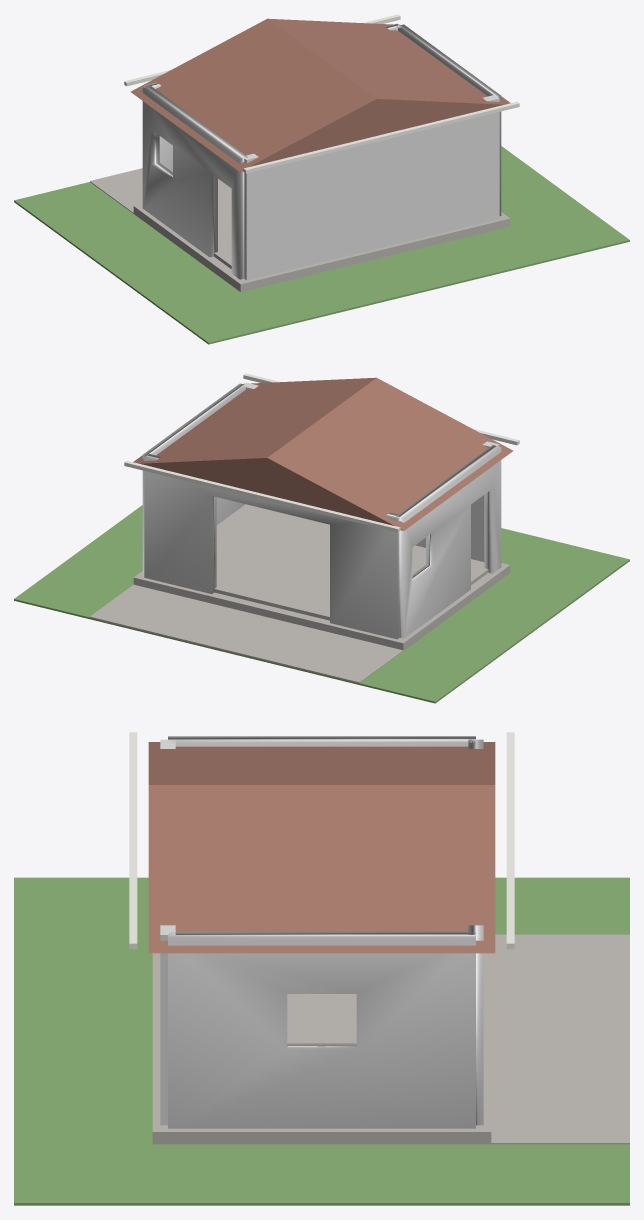
File: garage_detached_shell.glb
3 renders of one model, top to bottom at view 1: azimuth 30°, elevation 25°; view 2: azimuth 150°, elevation 25°; view 3: azimuth 270°, elevation 25°, orthographic. The views are drawn at different scales.
Visible parts, largest first — view 1: ground, roof, back_wall, left_wall, foundation, back_gutter, right_wall, driveway, floor, front_wall; view 2: roof, ground, front_wall, driveway, floor, left_wall, foundation, right_wall, front_gutter, back_wall; view 3: ground, roof, right_wall, driveway, foundation, floor, left_wall, front_gutter, back_gutter, front_wall, back_wall.
Part boxes in pixels (x1=…): ground: x1=14, y1=146, x2=629, y2=344; roof: x1=130, y1=18, x2=510, y2=171; back_wall: x1=242, y1=95, x2=499, y2=280; left_wall: x1=142, y1=86, x2=247, y2=279; foundation: x1=133, y1=183, x2=510, y2=291; back_gutter: x1=243, y1=101, x2=519, y2=173; right_wall: x1=397, y1=24, x2=501, y2=216; driveway: x1=90, y1=168, x2=224, y2=213; floor: x1=214, y1=184, x2=231, y2=268; front_wall: x1=144, y1=23, x2=401, y2=172; roof: x1=133, y1=377, x2=513, y2=530; ground: x1=14, y1=505, x2=629, y2=703; front_wall: x1=144, y1=454, x2=401, y2=639; driveway: x1=90, y1=584, x2=407, y2=683; floor: x1=214, y1=504, x2=488, y2=620; left_wall: x1=396, y1=445, x2=501, y2=638; foundation: x1=133, y1=563, x2=510, y2=650; right_wall: x1=142, y1=383, x2=245, y2=575; front_gutter: x1=124, y1=460, x2=400, y2=532; back_wall: x1=242, y1=382, x2=499, y2=561; ground: x1=14, y1=877, x2=629, y2=1205; roof: x1=148, y1=742, x2=495, y2=953; right_wall: x1=168, y1=931, x2=475, y2=1128; driveway: x1=478, y1=934, x2=629, y2=1144; foundation: x1=152, y1=953, x2=491, y2=1144; floor: x1=287, y1=994, x2=356, y2=1043; left_wall: x1=168, y1=736, x2=475, y2=746; front_gutter: x1=506, y1=732, x2=514, y2=949; back_gutter: x1=129, y1=732, x2=137, y2=949; front_wall: x1=468, y1=739, x2=483, y2=1125; back_wall: x1=160, y1=739, x2=175, y2=1125.
Size of the model in its own units: 10 by 3.7 by 8.
